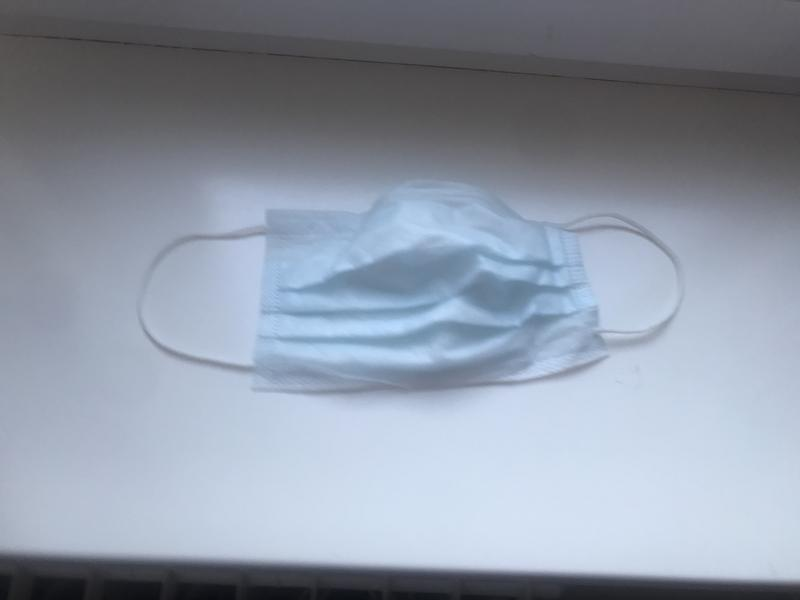medical_mask: (135, 180, 683, 393)
